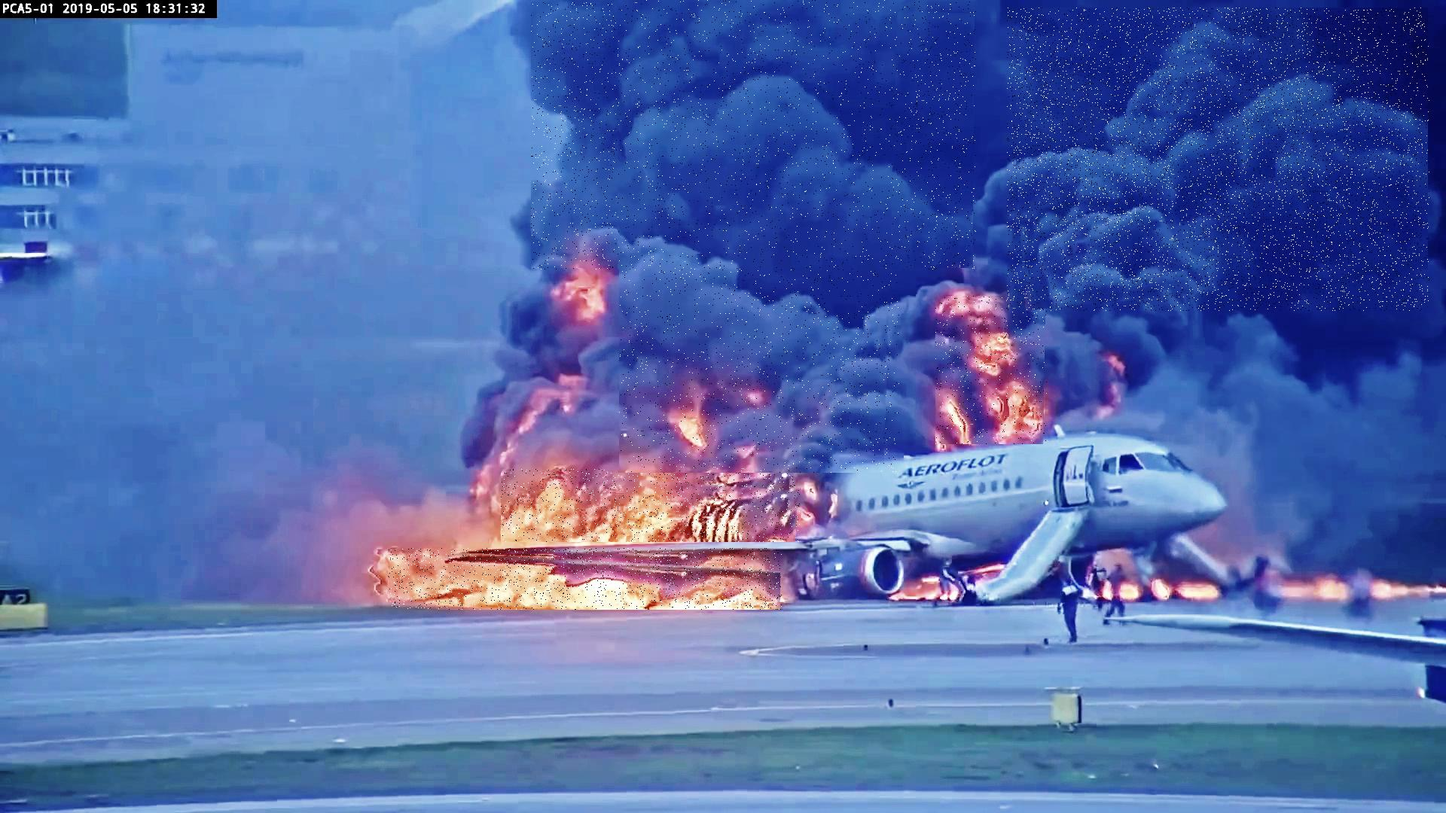fire: (388, 548, 782, 610), (501, 469, 800, 542), (936, 296, 1048, 444)
smoke: (620, 0, 900, 473), (1008, 8, 1430, 311), (531, 2, 977, 270)
